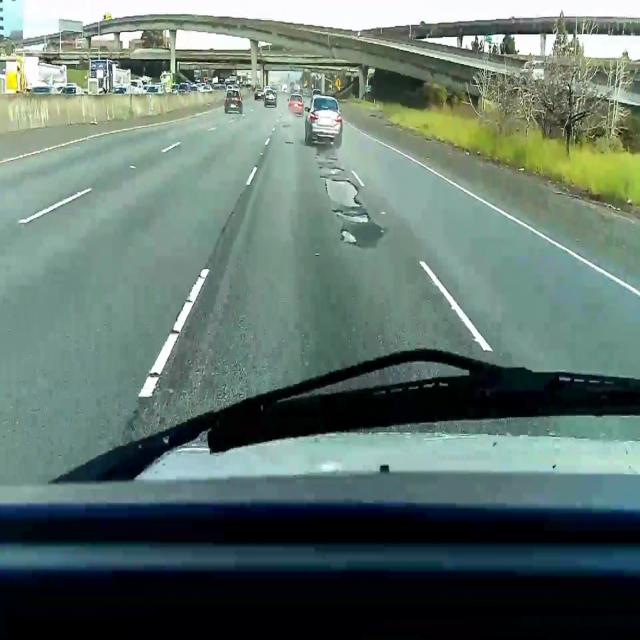Pothole: (320, 175, 362, 208), (331, 209, 371, 222), (341, 228, 356, 244), (329, 166, 345, 172), (284, 141, 294, 144), (282, 125, 290, 126)
